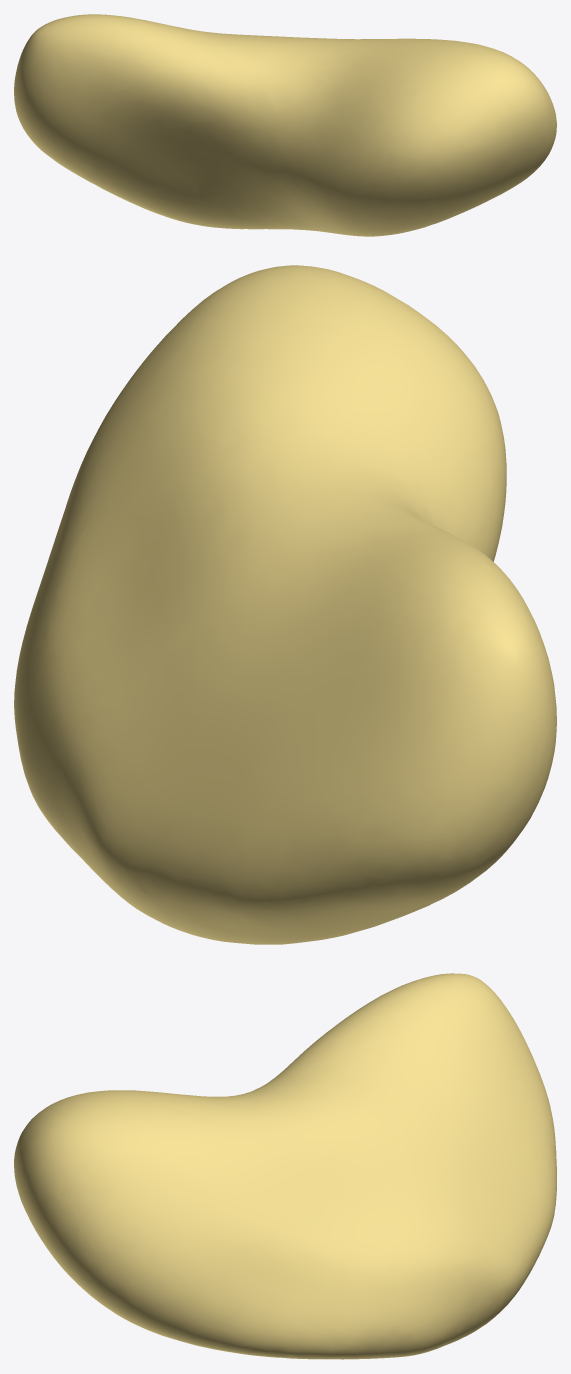
3 renders of one model, top to bottom at view 1: azimuth 30°, elevation 25°; view 2: azimuth 150°, elevation 25°; view 3: azimuth 270°, elevation 25°, orthographic. The views are drawn at different scales.
Parts seen in each view (by area): view 1: ZA_03ebb05335a2c819; view 2: ZA_03ebb05335a2c819; view 3: ZA_03ebb05335a2c819.
Boxes of the visible parts, x1,y1,x2,y2 form: ZA_03ebb05335a2c819: (14,14,556,236); ZA_03ebb05335a2c819: (14,265,556,944); ZA_03ebb05335a2c819: (14,973,556,1359).
Bounding box in the file's own units: 0.0345 × 0.02 × 0.0355.
